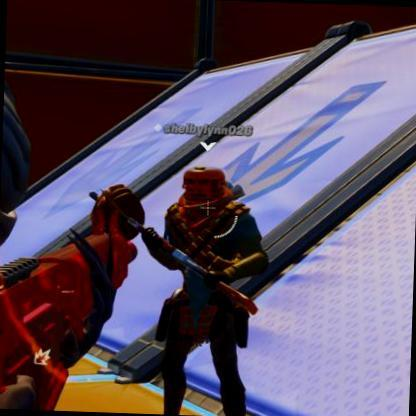person: (116, 155, 273, 416)
